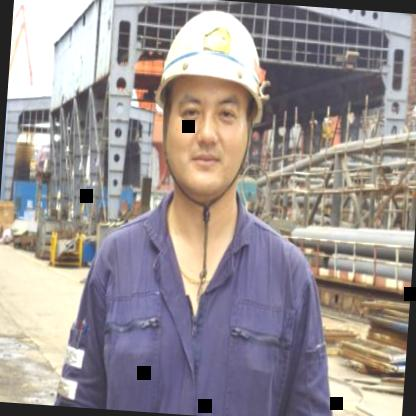helmet: (137, 0, 283, 214)
